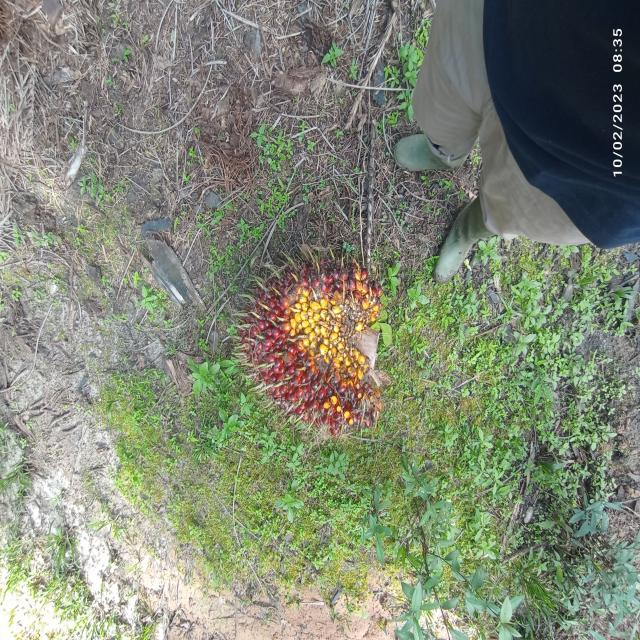fraksi 3: (226, 246, 407, 450)
